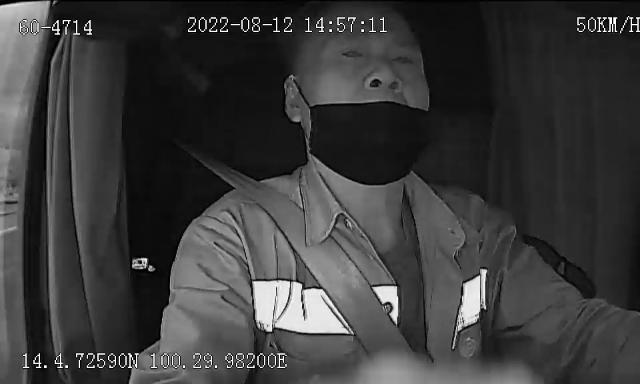Seatbelt: (188, 118, 446, 384)
